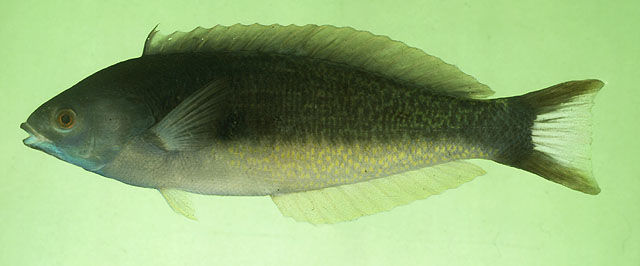fish: (20, 23, 604, 225)
